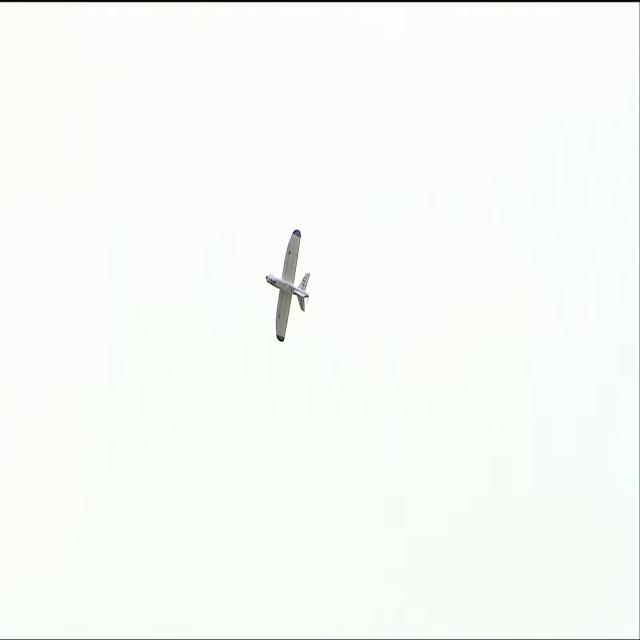iha: (266, 262, 310, 310)
